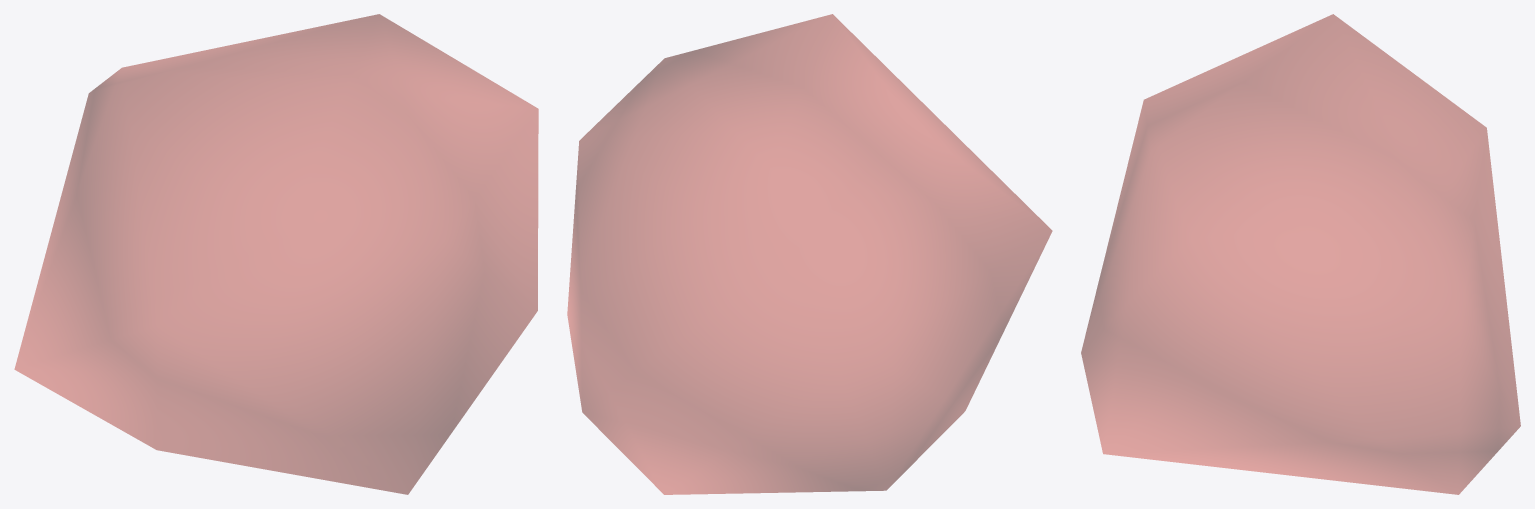
The model's file is Core_Shell_001_Bogdan.fbx.
3 renders of one model, left to right at view 1: azimuth 30°, elevation 25°; view 2: azimuth 150°, elevation 25°; view 3: azimuth 270°, elevation 25°, orthographic. The views are drawn at different scales.
Visible parts, largest first — view 1: Core Shell.001; view 2: Core Shell.001; view 3: Core Shell.001.
Part boxes in pixels (x1,y1,x2,y2): Core Shell.001: (14,14,538,494); Core Shell.001: (567,14,1052,494); Core Shell.001: (1081,14,1520,494).
Size of the model in its own units: 48.6 by 46.29 by 47.66.
